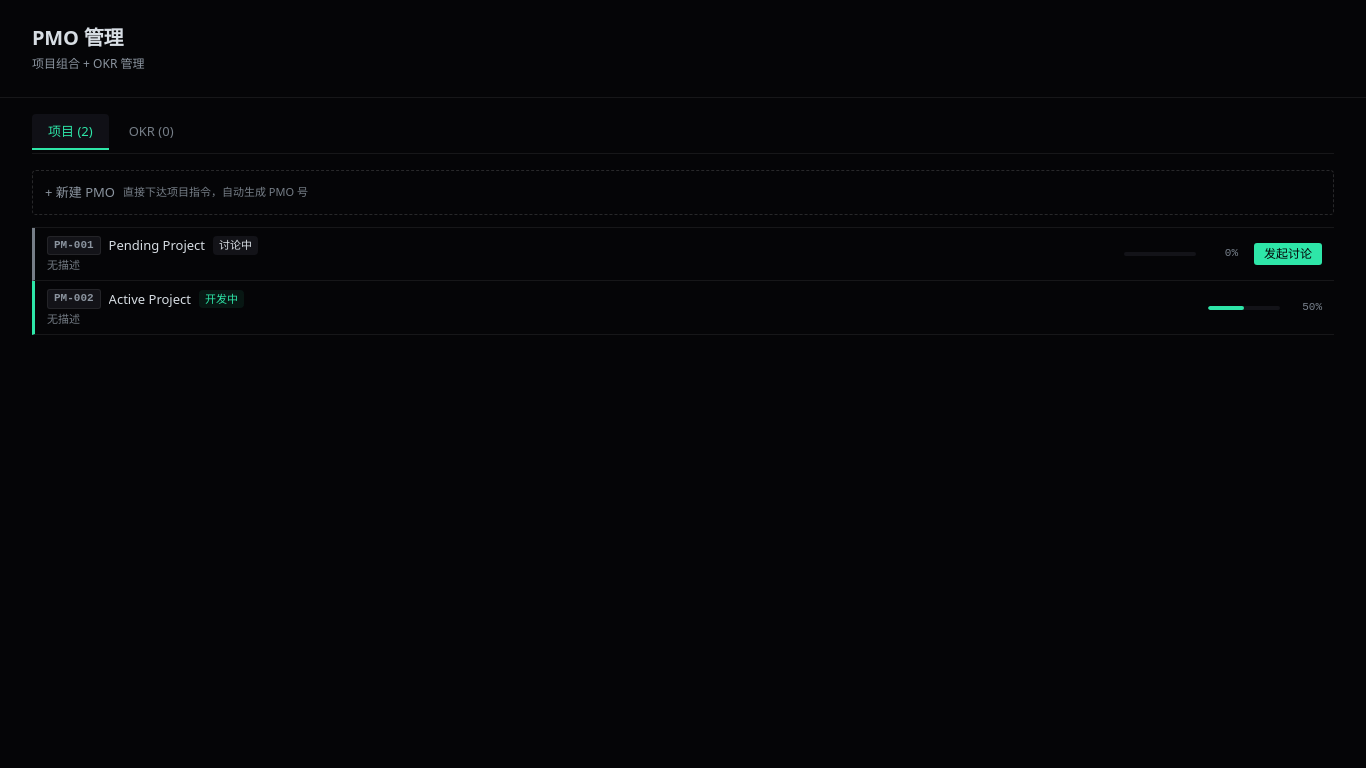
Test: AC-6: PMO publish button › dialog shows responder agents resolved from channel members
Click the button "发起讨论" at (1288, 254), box x1=1254 y1=242 x2=1322 y2=265
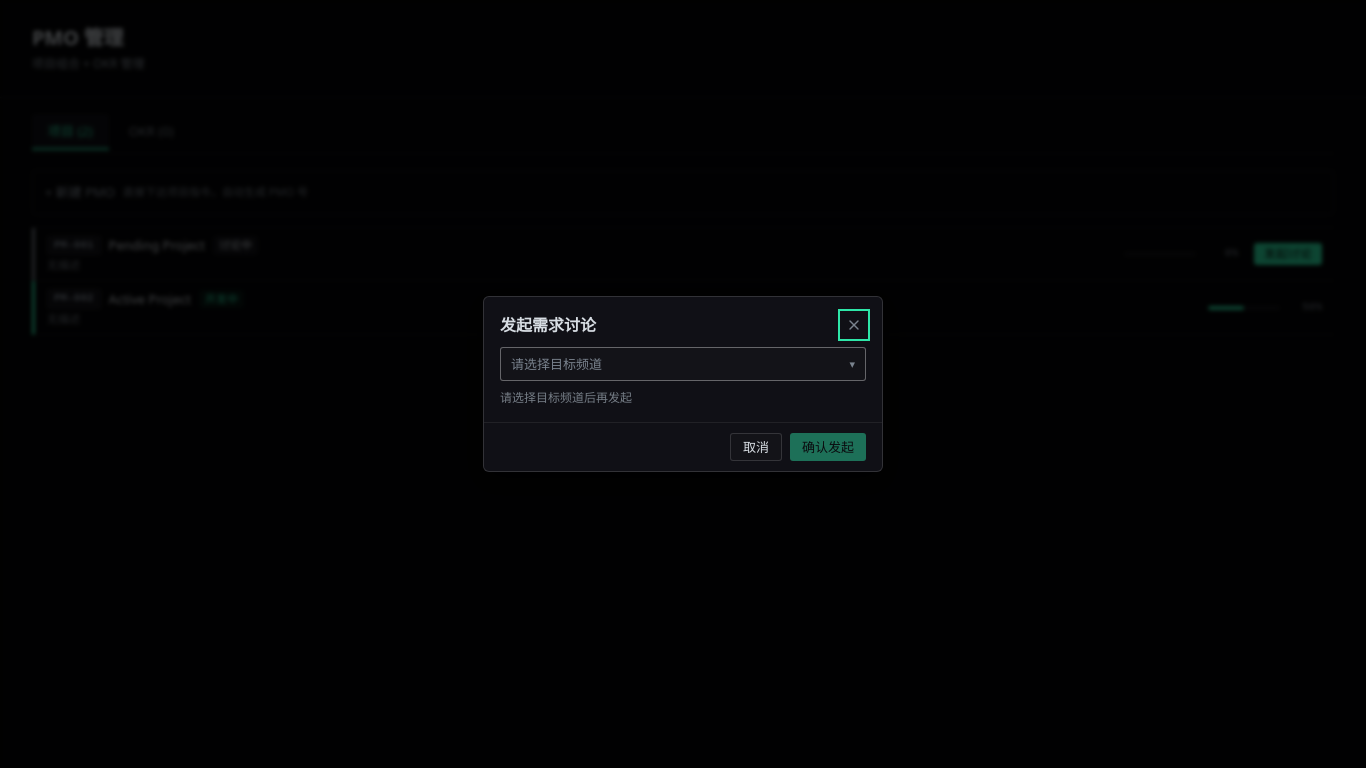
Note: #273：弹窗不预选频道，需显式选择后才解析响应成员
Click the button "请选择目标频道 ▾" at (557, 364), box x1=500 y1=347 x2=866 y2=381
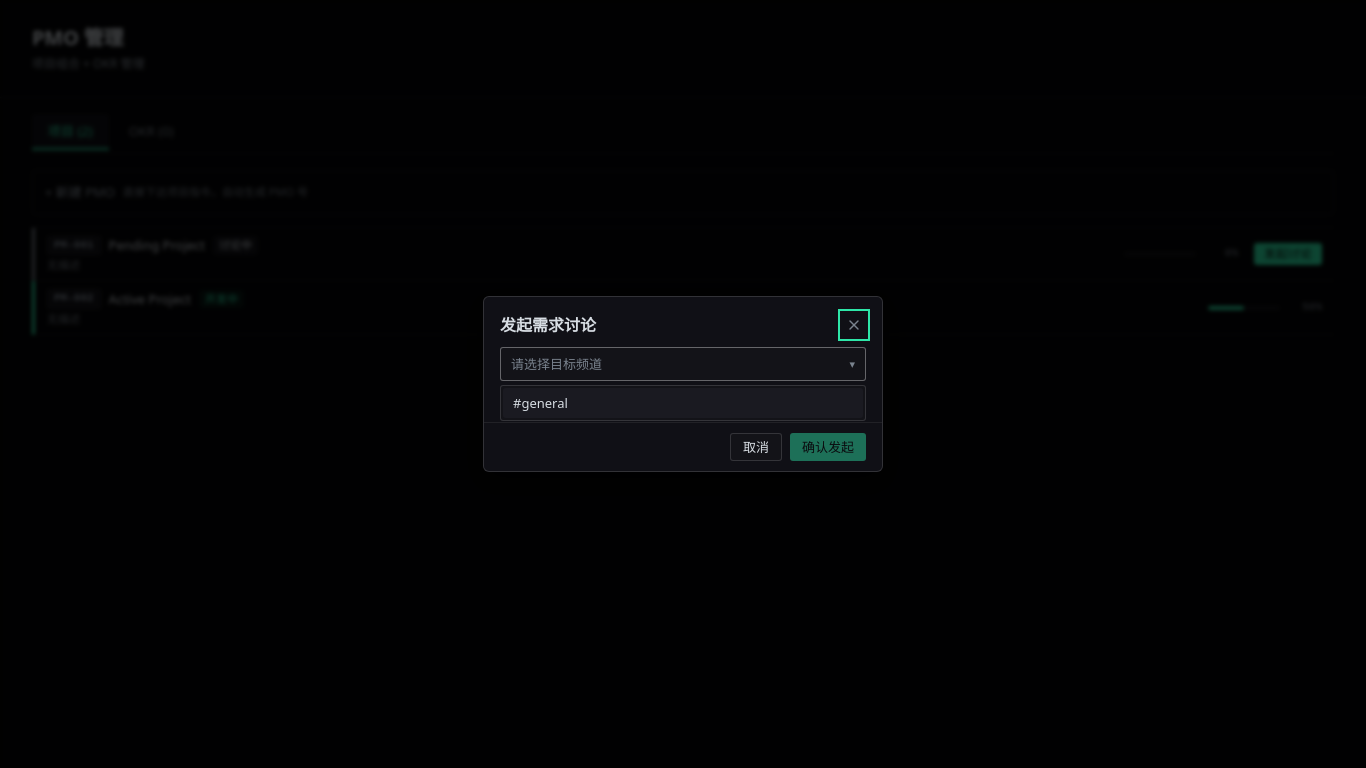
Click the option "#general" at (540, 403), box x1=503 y1=388 x2=863 y2=418
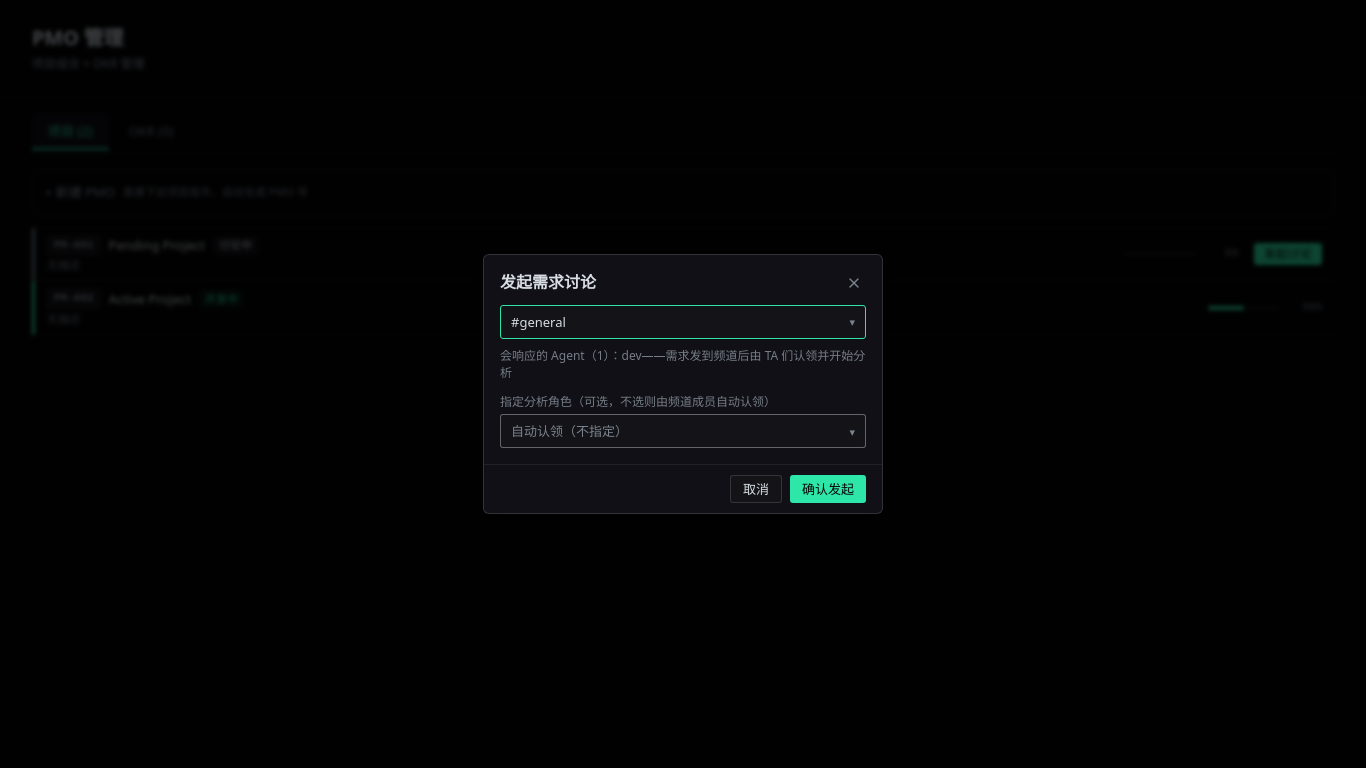
Check: the text "会响应的 Agent（1）：dev——需求发到频道后由 TA 们认领并开始分析" is shown, box x1=500 y1=347 x2=866 y2=381
